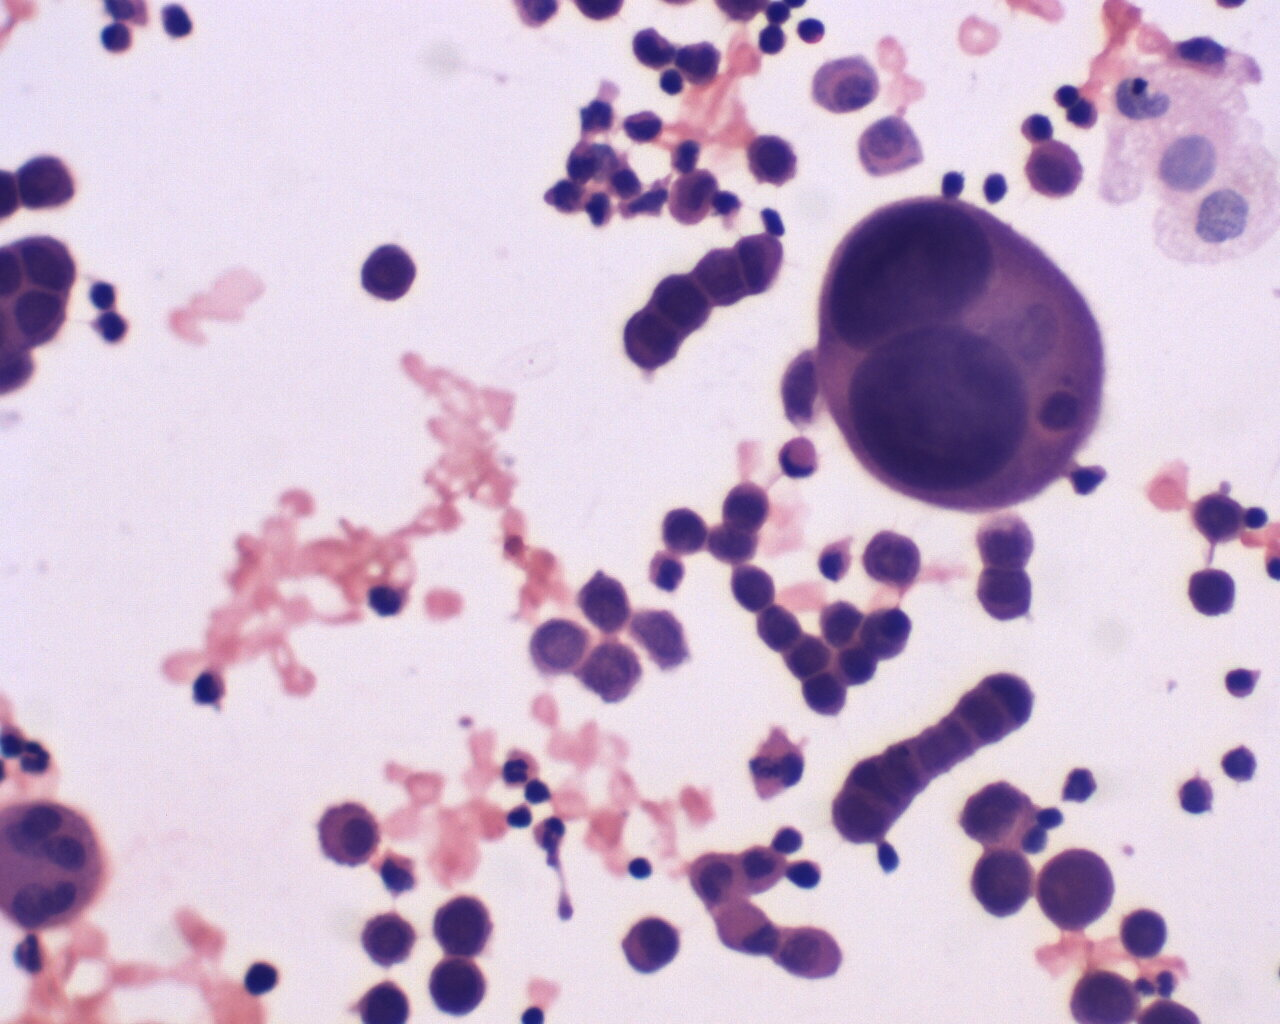ab: (819, 196, 1108, 512), (1039, 844, 1116, 934), (968, 848, 1039, 920), (426, 952, 497, 1019), (356, 240, 426, 307), (854, 526, 925, 590), (430, 894, 503, 957), (525, 615, 594, 679), (624, 308, 686, 370), (967, 565, 1029, 625), (578, 566, 635, 630), (1187, 558, 1236, 624), (1189, 488, 1242, 546)
lymph: (87, 276, 123, 311)
meso: (308, 796, 382, 865), (850, 114, 925, 180), (779, 920, 848, 986), (1017, 136, 1086, 199), (814, 56, 885, 116), (684, 852, 742, 914)
neutro: (528, 815, 571, 852)
